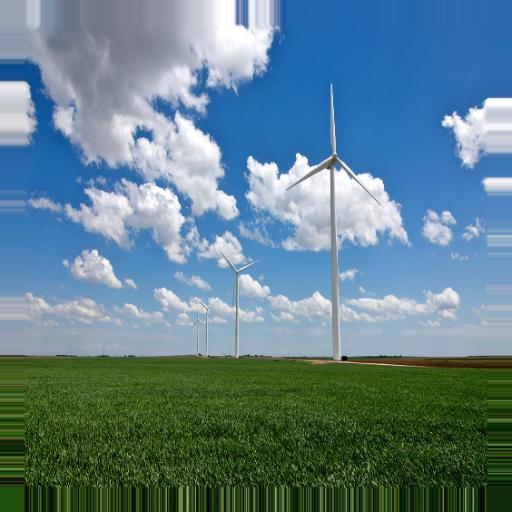wind turbine: (284, 80, 380, 355), (217, 249, 262, 354), (199, 296, 219, 354)
